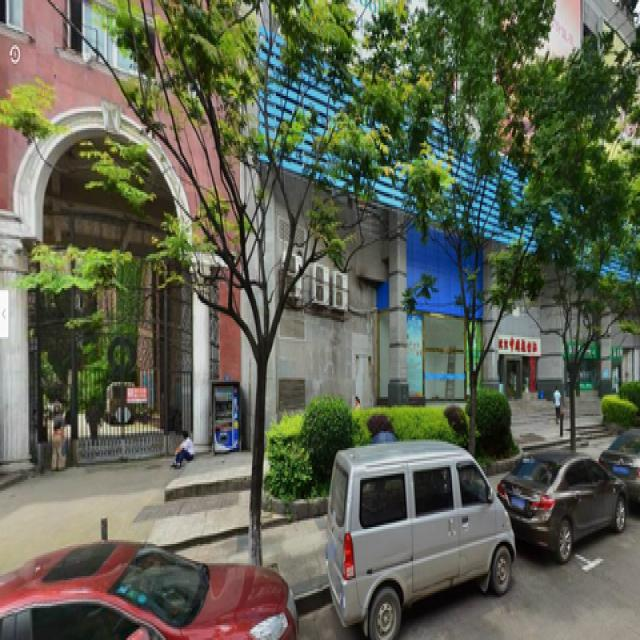koel: (42, 2, 414, 551)
